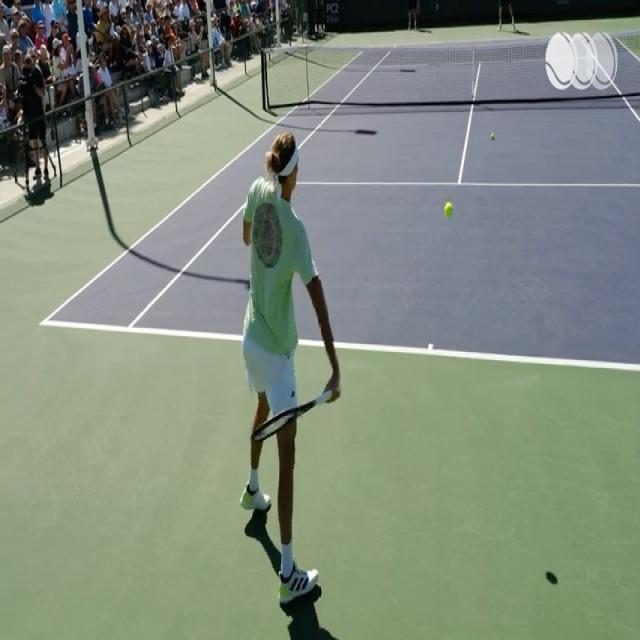forehand-stroke: (212, 132, 347, 615)
